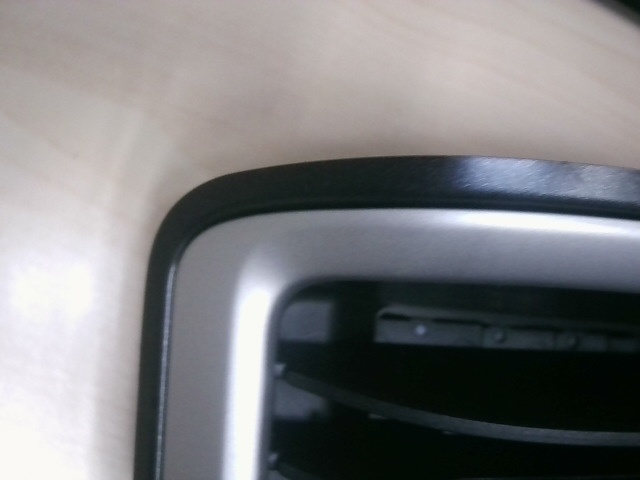NG: (555, 155, 589, 188)
